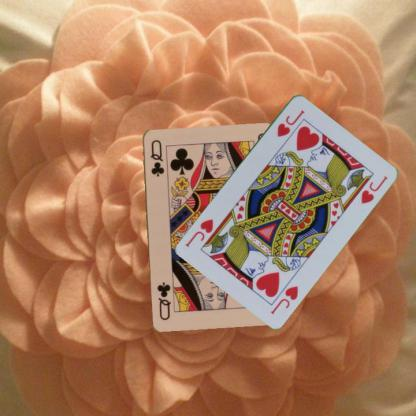Jh: (268, 282, 300, 315), (274, 106, 306, 138)
Qc: (148, 137, 166, 177)
